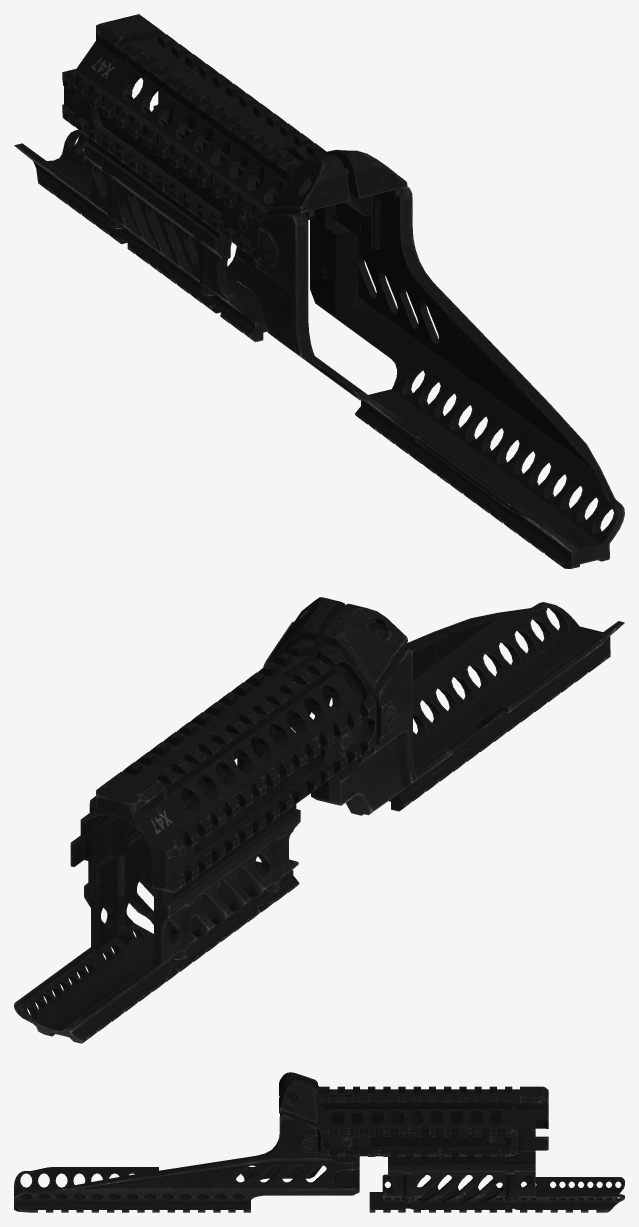
3 views of the same model, one above another, from view 1: azimuth 30°, elevation 25°; view 2: azimuth 150°, elevation 25°; view 3: azimuth 270°, elevation 25° (orthographic). The views are drawn at different scales.
Parts seen in each view (by area): view 1: TW_5f6331e097199b7db2128dc2_PZ_Import; view 2: TW_5f6331e097199b7db2128dc2_PZ_Import; view 3: TW_5f6331e097199b7db2128dc2_PZ_Import.
Part boxes in pixels (x1,y1,x2,y2): TW_5f6331e097199b7db2128dc2_PZ_Import: (14,14,624,568); TW_5f6331e097199b7db2128dc2_PZ_Import: (14,597,624,1043); TW_5f6331e097199b7db2128dc2_PZ_Import: (14,1072,624,1212).
Size of the model in its own units: 0.0301 by 0.2324 by 0.0545.
Materials: 1 (1 with a texture image).
